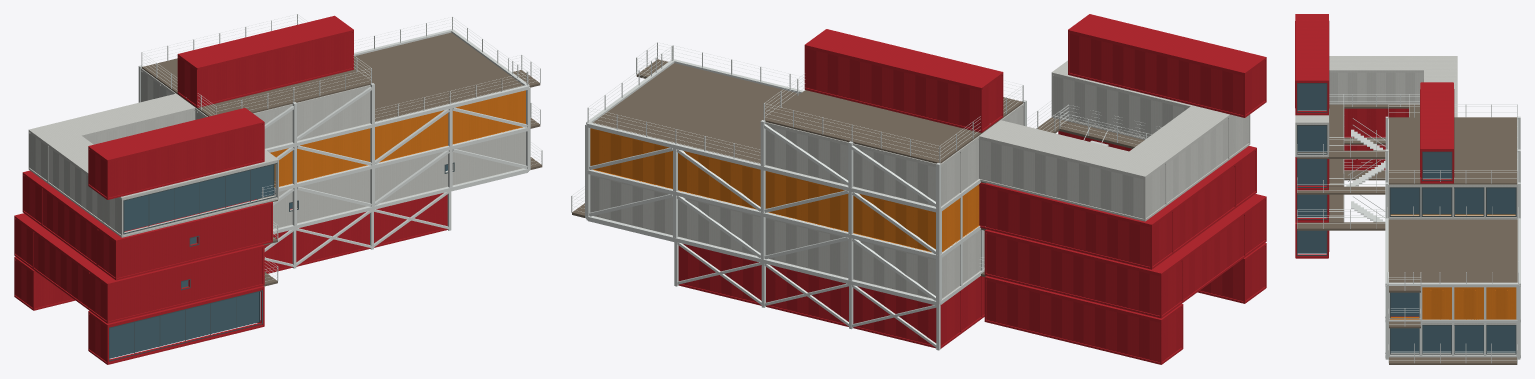
The picture shows the model from 3 angles, left to right: view 1: azimuth 30°, elevation 25°; view 2: azimuth 150°, elevation 25°; view 3: azimuth 270°, elevation 25°; orthographic projection. The views are drawn at different scales.
Visible parts, largest first — view 1: piVille99__salmon, piVille99__cream, piVille99__light, piVille99__roof, piVille99__glass, piVille99__rough, piVille99__frame; view 2: piVille99__salmon, piVille99__cream, piVille99__light, piVille99__roof, piVille99__rough; view 3: piVille99__roof, piVille99__glass, piVille99__cream, piVille99__salmon, piVille99__light, piVille99__rough, piVille99__frame.
Part boxes in pixels (x1,y1,x2,y2): piVille99__salmon: (14, 15, 447, 364); piVille99__cream: (28, 68, 525, 237); piVille99__light: (138, 14, 542, 281); piVille99__roof: (142, 32, 542, 287); piVille99__glass: (109, 164, 447, 358); piVille99__rough: (270, 90, 525, 187); piVille99__frame: (109, 162, 454, 361); piVille99__salmon: (678, 14, 1266, 364); piVille99__cream: (590, 60, 1250, 299); piVille99__light: (571, 42, 1161, 350); piVille99__roof: (572, 59, 1144, 276); piVille99__rough: (590, 128, 979, 252); piVille99__roof: (1297, 104, 1517, 364); piVille99__glass: (1297, 84, 1515, 352); piVille99__cream: (1295, 56, 1518, 355); piVille99__salmon: (1295, 14, 1454, 316); piVille99__light: (1297, 94, 1520, 363); piVille99__rough: (1390, 214, 1516, 319); piVille99__frame: (1297, 83, 1516, 354).
Bounding box in the file's own units: 37.25 × 14.9 × 17.13.
7 materials, 3 textured.
